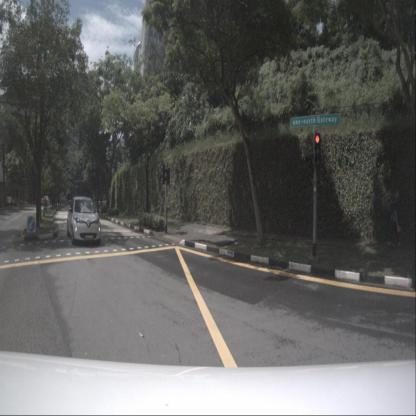human-pedestrian-adult: (388, 190, 402, 248)
vehicle-car: (67, 196, 101, 246)
